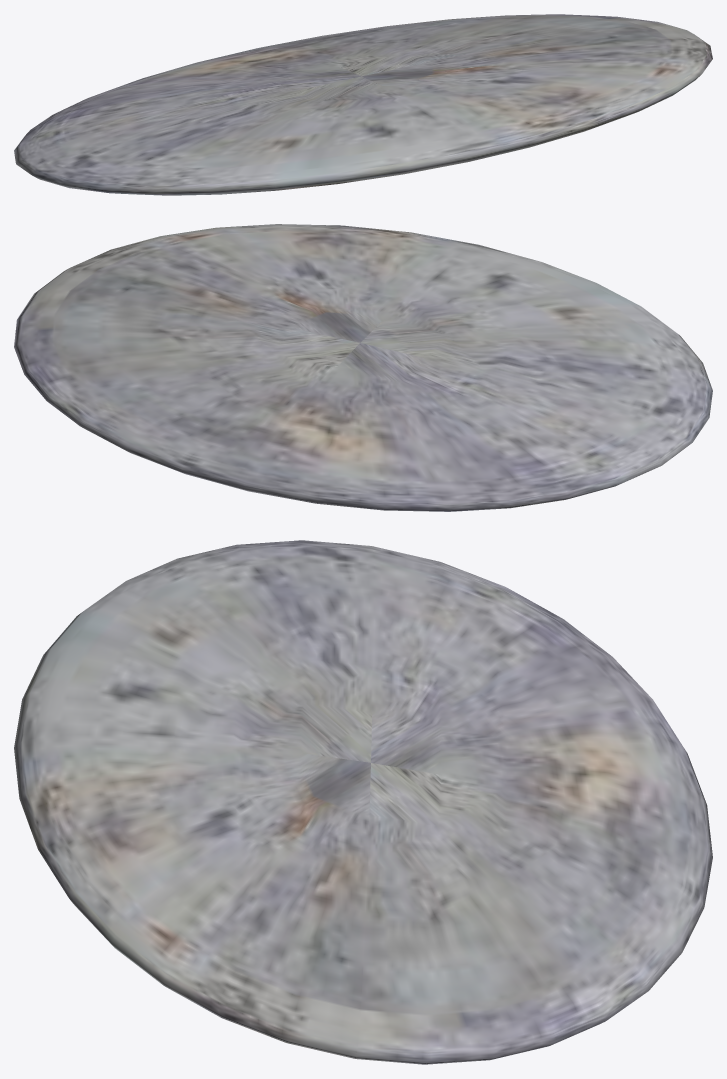
File: Cockpit_Fin_A.fbx
3 renders of one model, top to bottom at view 1: azimuth 30°, elevation 25°; view 2: azimuth 150°, elevation 25°; view 3: azimuth 270°, elevation 25°, orthographic. The views are drawn at different scales.
Visible parts, largest first — view 1: Cockpit_Fin_A; view 2: Cockpit_Fin_A; view 3: Cockpit_Fin_A.
Boxes of the visible parts, left/top/right/bottom form: Cockpit_Fin_A: left=14, top=14, right=712, bottom=195; Cockpit_Fin_A: left=14, top=224, right=712, bottom=511; Cockpit_Fin_A: left=14, top=540, right=712, bottom=1064.
Size of the model in its own units: 1.14 by 0.1498 by 0.6988.
